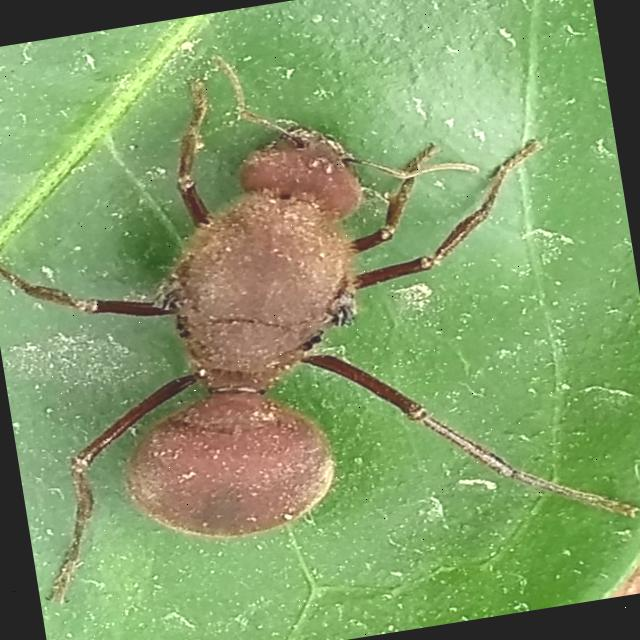Alive-Female-Dealate: (0, 28, 640, 616)
